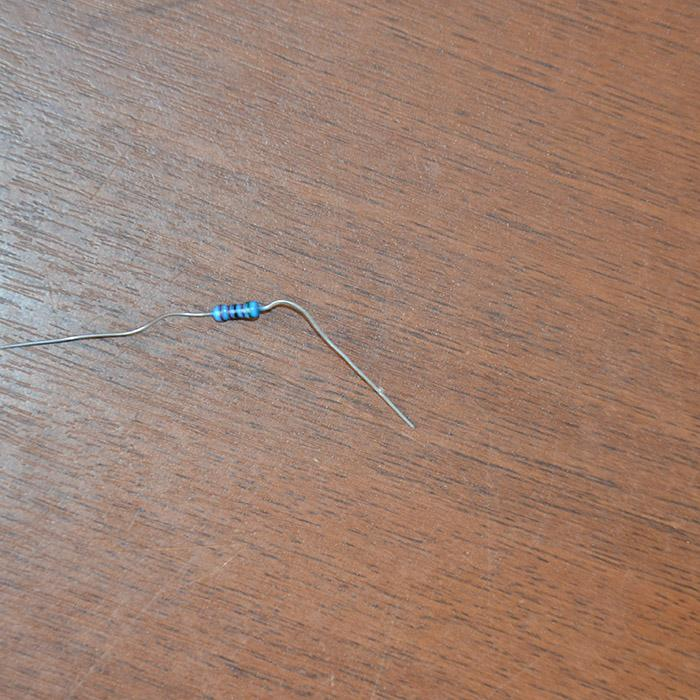resistor: (211, 300, 261, 321)
